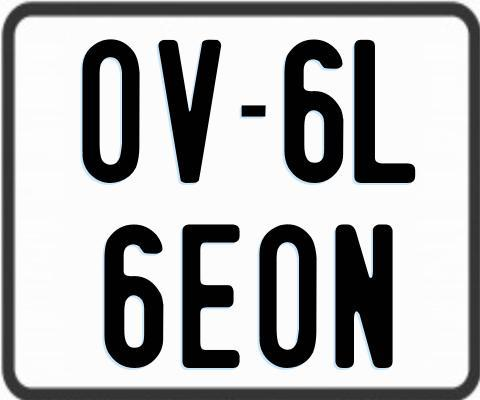0: (79, 36, 141, 184), (258, 224, 316, 370)
6: (282, 39, 345, 187), (101, 225, 161, 371)
E: (179, 221, 237, 370)
L: (353, 40, 418, 185)
N: (335, 221, 397, 369)
V: (157, 37, 225, 186)
